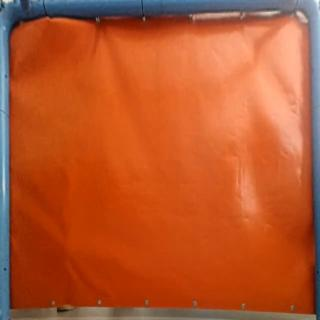Hit-hRxx: (56, 238, 72, 254)
